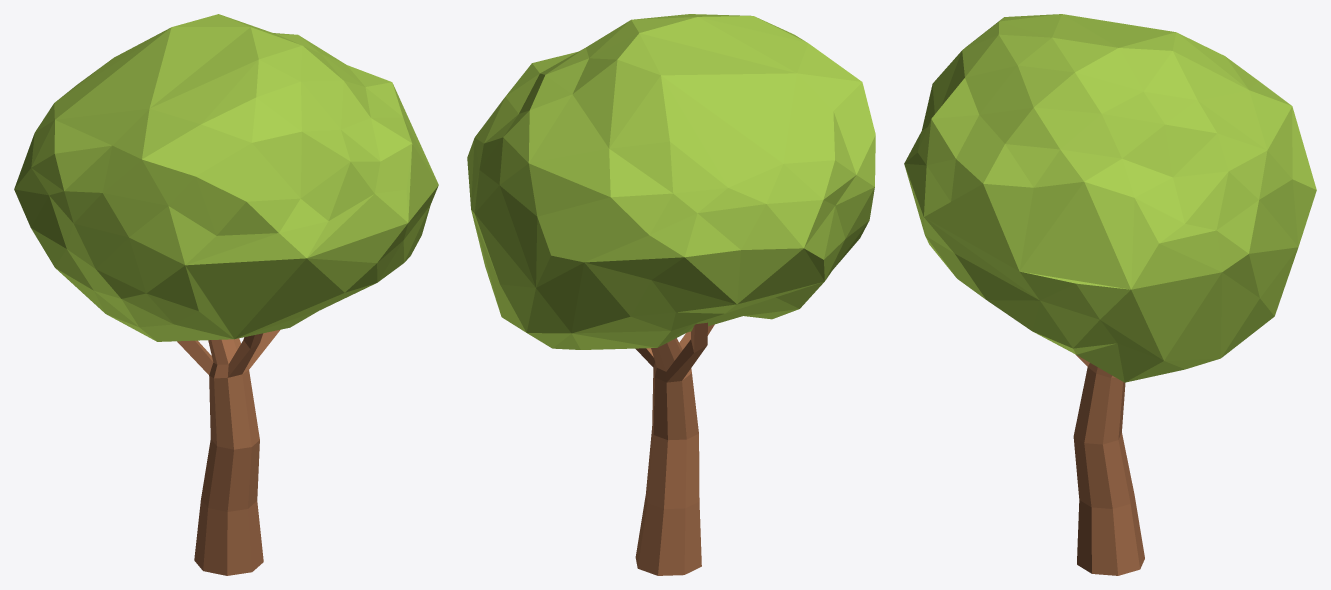
File: Obstacle_Earth_Props_Tree.fbx
The picture shows the model from 3 angles, left to right: view 1: azimuth 30°, elevation 25°; view 2: azimuth 150°, elevation 25°; view 3: azimuth 270°, elevation 25°; orthographic projection.
Parts seen in each view (by area): view 1: Tree1; view 2: Tree1; view 3: Tree1.
Boxes of the visible parts, x1,y1,x2,y2 form: Tree1: (14, 14, 438, 575); Tree1: (467, 14, 875, 575); Tree1: (904, 14, 1316, 575).
Size of the model in its own units: 501 by 676 by 481.
